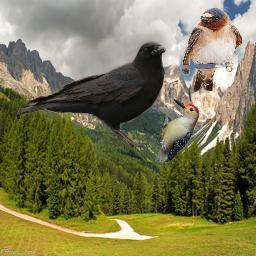Crow: (17, 41, 166, 148)
Swallow: (182, 7, 243, 92)
Woodpecker: (155, 99, 199, 162)
